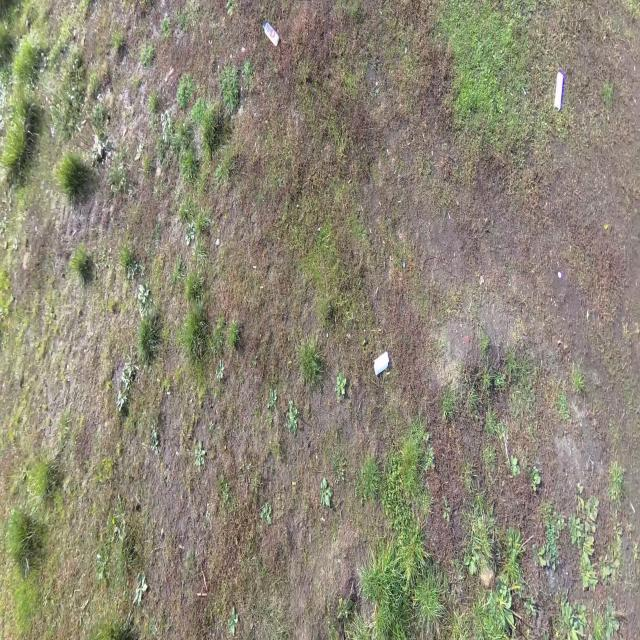rubbish: (261, 18, 279, 47), (373, 350, 389, 376), (554, 70, 564, 110), (556, 270, 561, 278)
